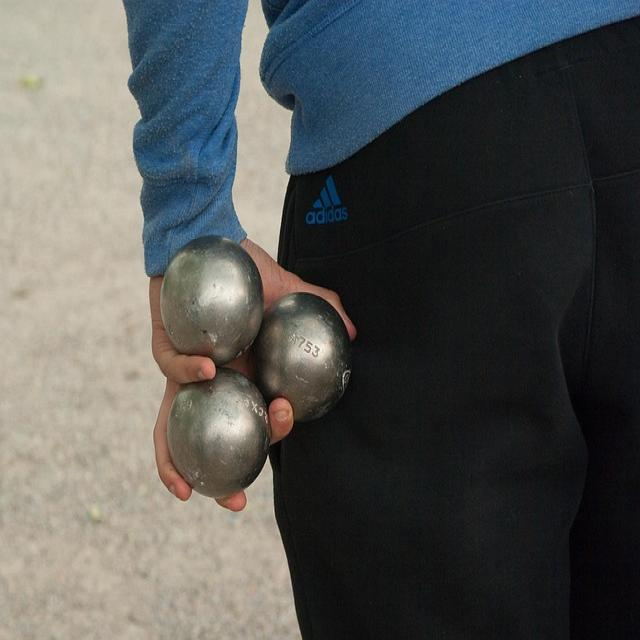petanque: (158, 359, 278, 508), (153, 226, 266, 368), (252, 287, 362, 429)
